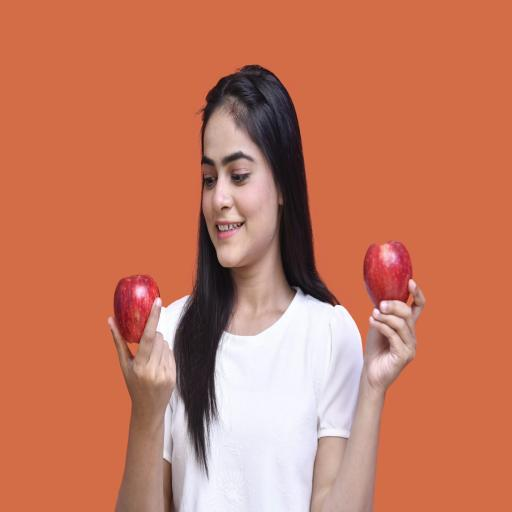apple: (364, 240, 412, 308), (114, 275, 159, 343)
